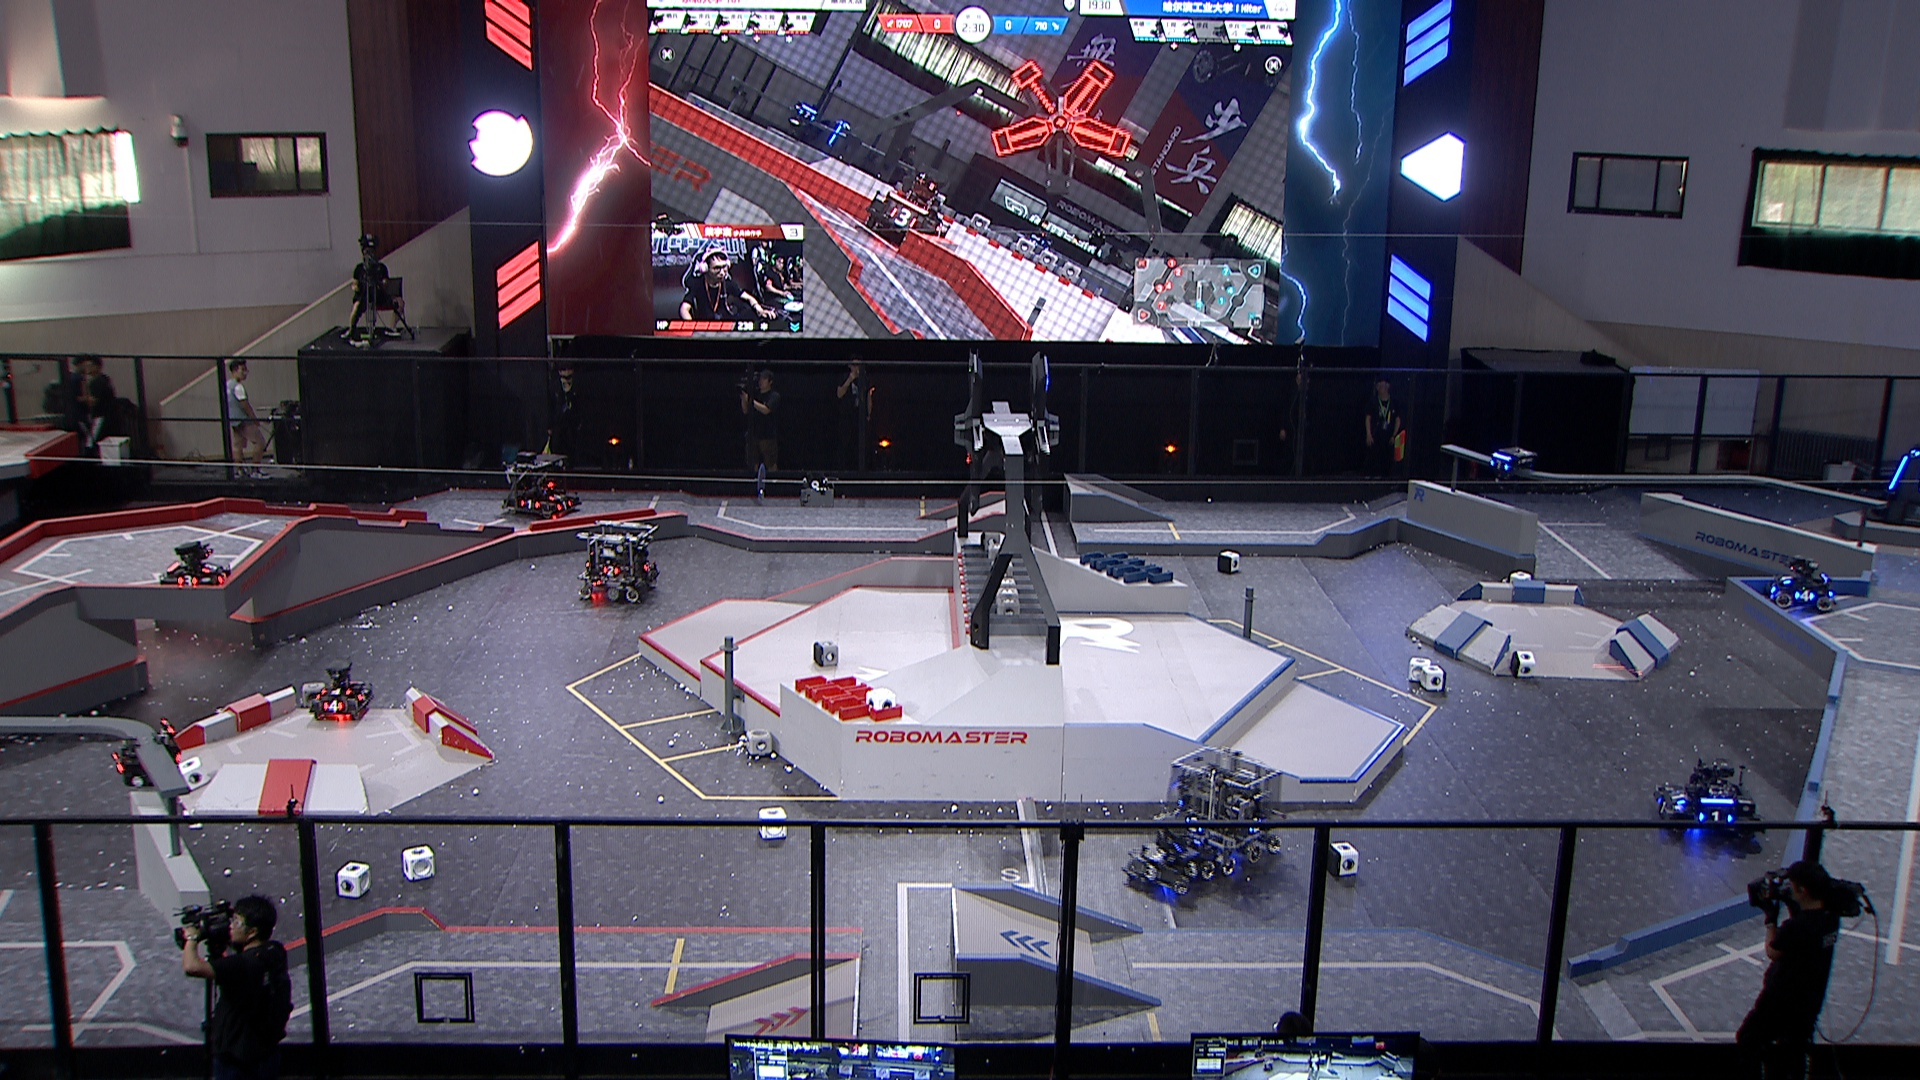armor: (1888, 455, 1911, 491), (1145, 845, 1174, 866), (1698, 808, 1735, 823), (1139, 862, 1164, 884), (1183, 815, 1205, 835), (109, 752, 128, 775), (323, 684, 352, 698), (1183, 860, 1203, 878), (517, 498, 543, 512), (1489, 458, 1513, 472), (1793, 588, 1817, 603), (1671, 790, 1691, 807), (1658, 796, 1673, 818), (174, 574, 200, 585), (323, 699, 344, 713), (1247, 818, 1266, 833), (603, 564, 621, 579), (200, 562, 223, 574), (215, 568, 233, 582), (356, 688, 371, 703), (1780, 574, 1795, 588), (556, 500, 574, 510), (642, 562, 655, 575), (549, 495, 566, 502)
base: (1865, 448, 1920, 531)
car: (1167, 746, 1288, 877), (1656, 757, 1768, 847), (1120, 812, 1216, 898), (578, 517, 661, 605), (501, 451, 584, 524), (1766, 553, 1836, 615), (309, 659, 375, 723), (160, 541, 235, 595)
ignore: (866, 171, 949, 245), (800, 115, 864, 167), (793, 98, 820, 131), (1031, 229, 1058, 251)
watcher: (109, 716, 182, 790), (1487, 444, 1534, 491)
